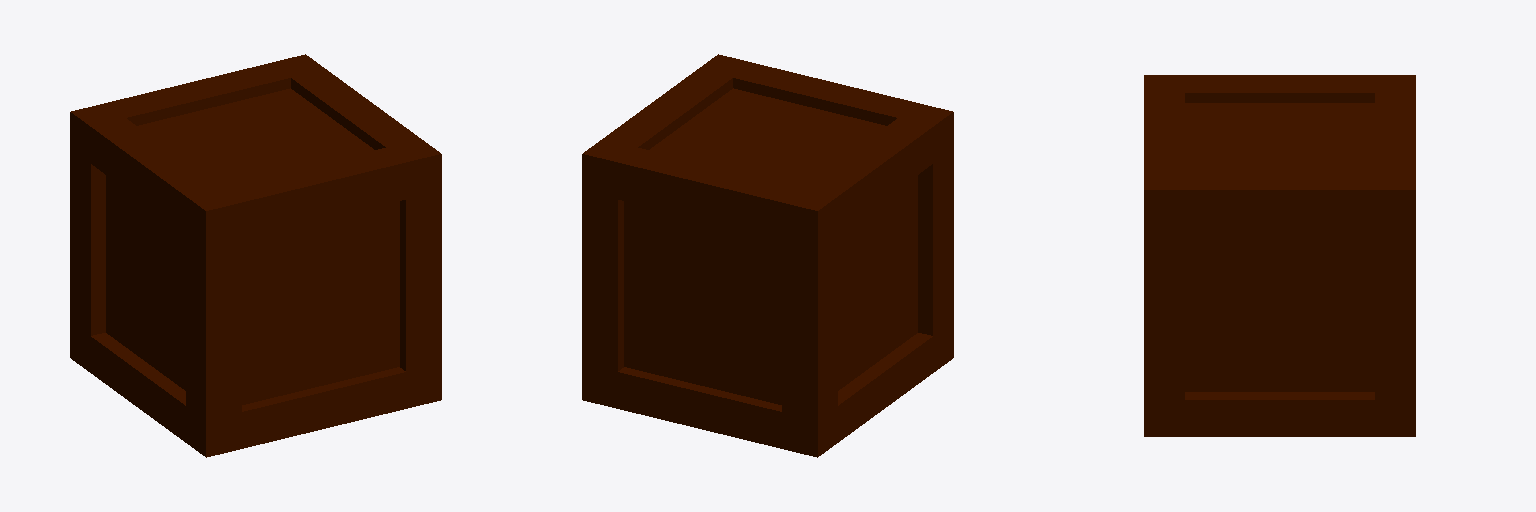
Rendered from crate.obj.
3 views of the same model, side by side, from view 1: azimuth 30°, elevation 25°; view 2: azimuth 150°, elevation 25°; view 3: azimuth 270°, elevation 25° (orthographic).
Visible parts, largest first — view 1: Crate_Cube; view 2: Crate_Cube; view 3: Crate_Cube.
Boxes of the visible parts, x1,y1,x2,y2 form: Crate_Cube: [70, 54, 441, 457]; Crate_Cube: [582, 54, 953, 457]; Crate_Cube: [1144, 75, 1415, 436].
Bounding box in the file's own units: 2 × 2 × 2.